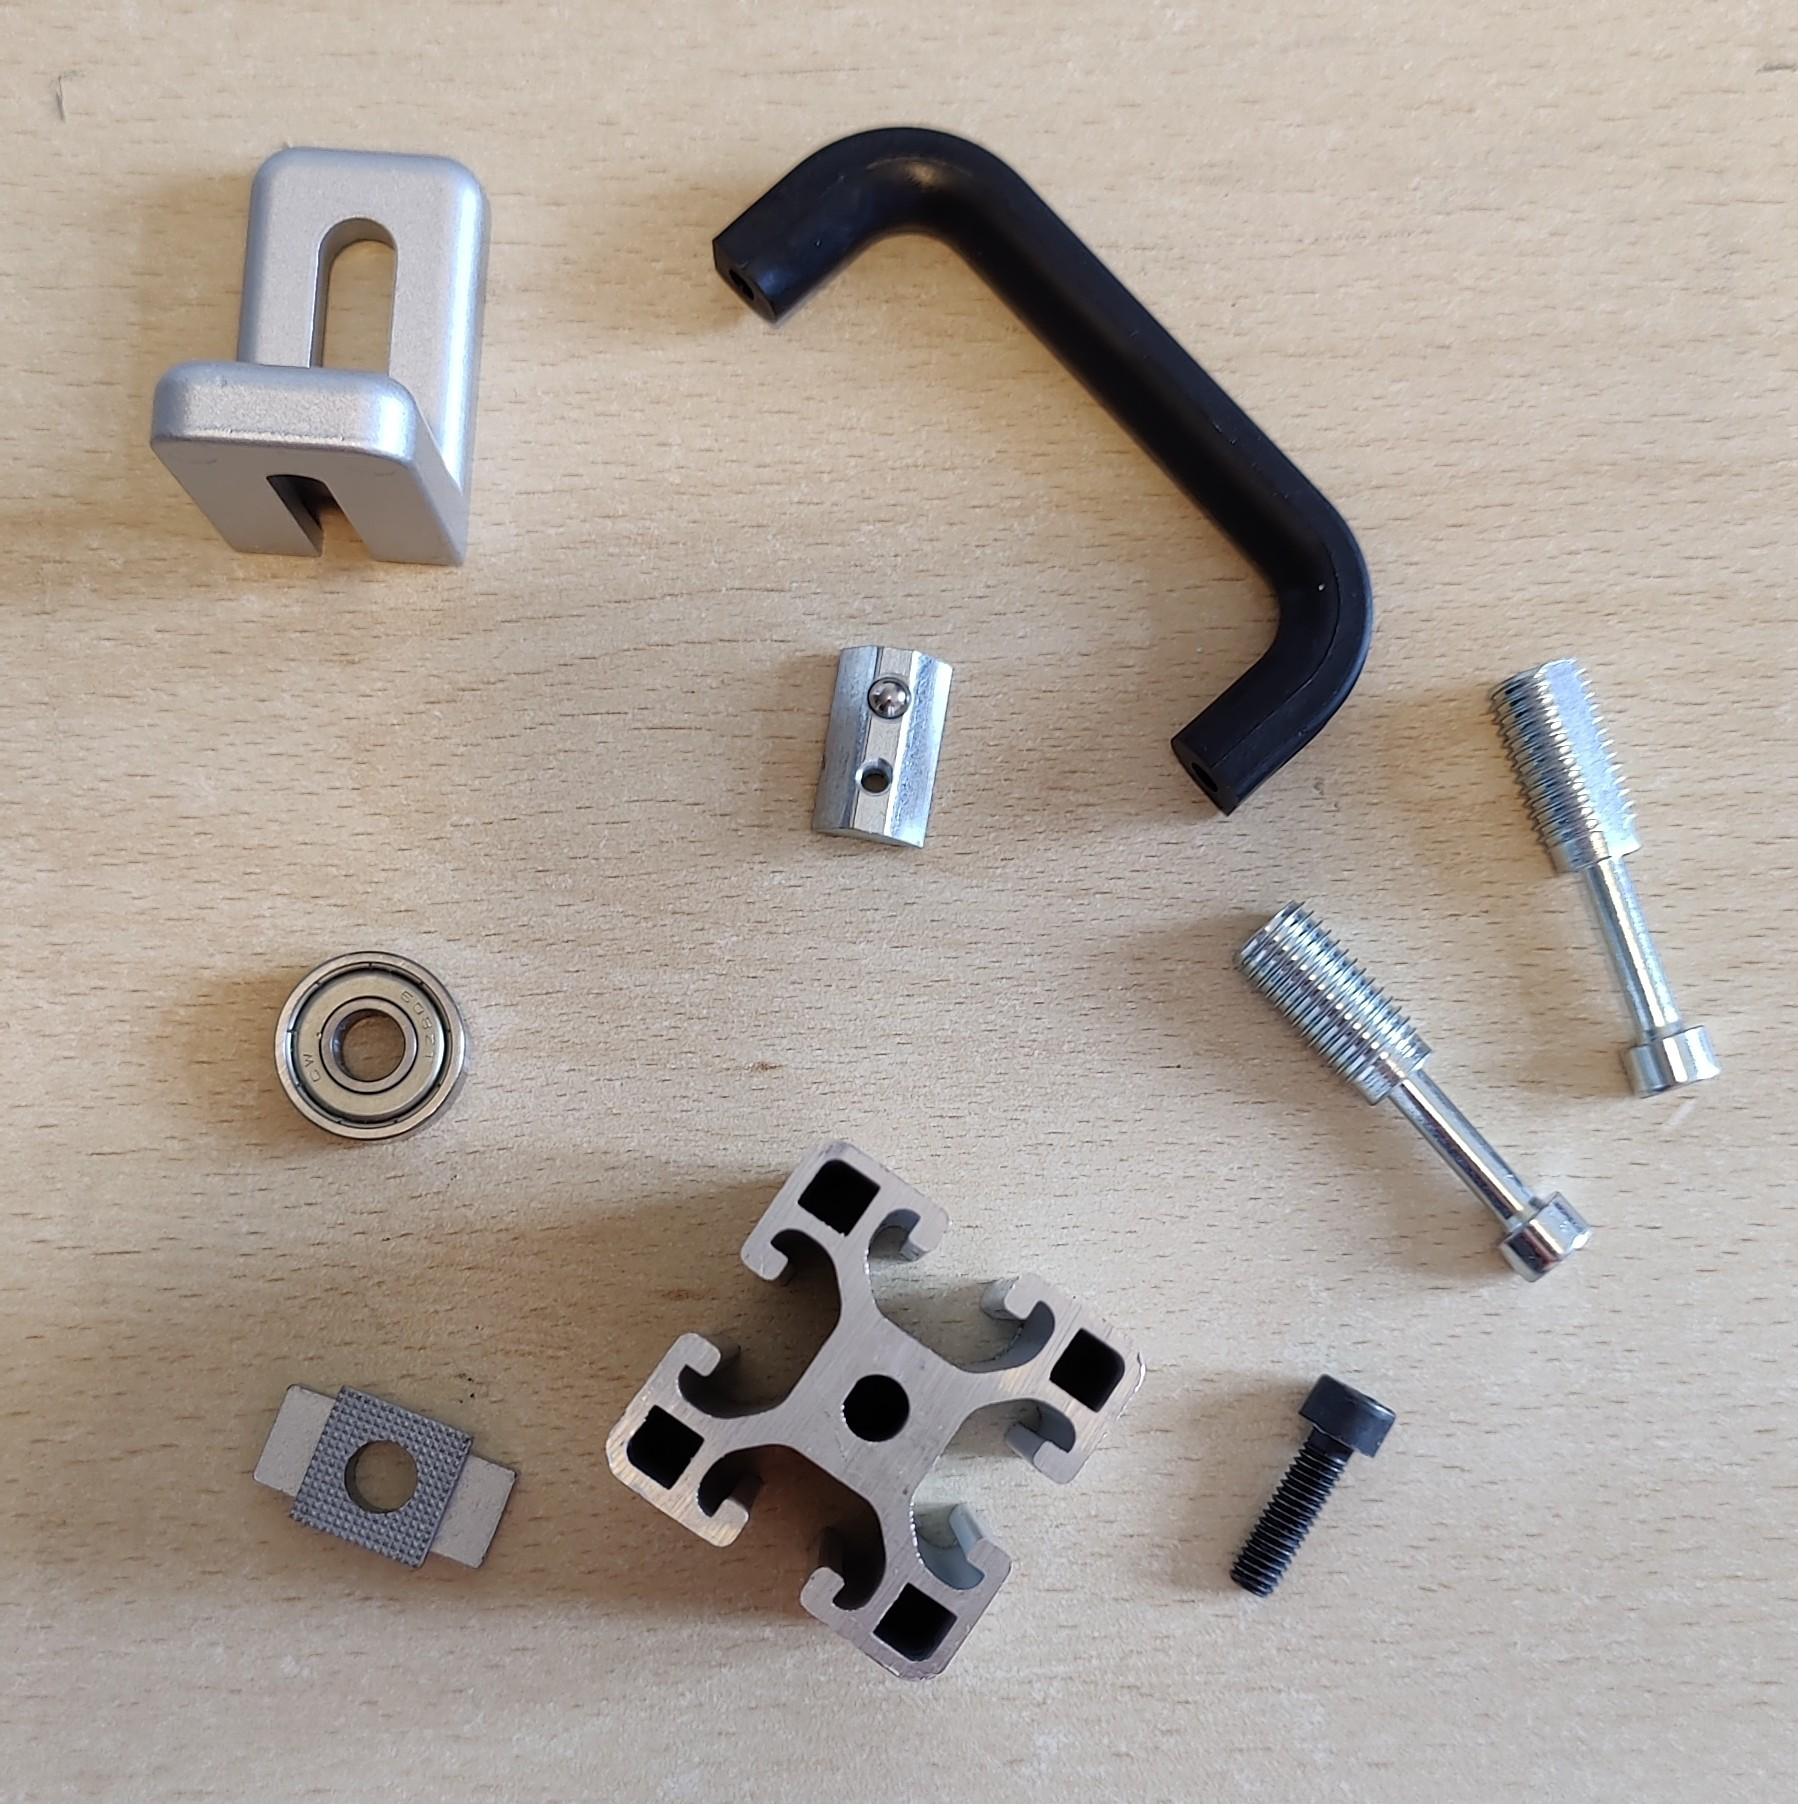Aluminium Extension: (603, 1144, 1143, 1684)
Ball Bearing: (273, 951, 473, 1147)
Multiwinkel: (145, 143, 492, 570)
Pull Handle: (706, 125, 1376, 818)
Shoulder Socket Head Cap Screw: (1230, 900, 1595, 1286), (1484, 658, 1726, 1104)
Socket Head Cap Screw: (1228, 1369, 1398, 1598)
T Nut Square: (252, 1381, 520, 1574)
T Spring Nut: (812, 642, 952, 853)
